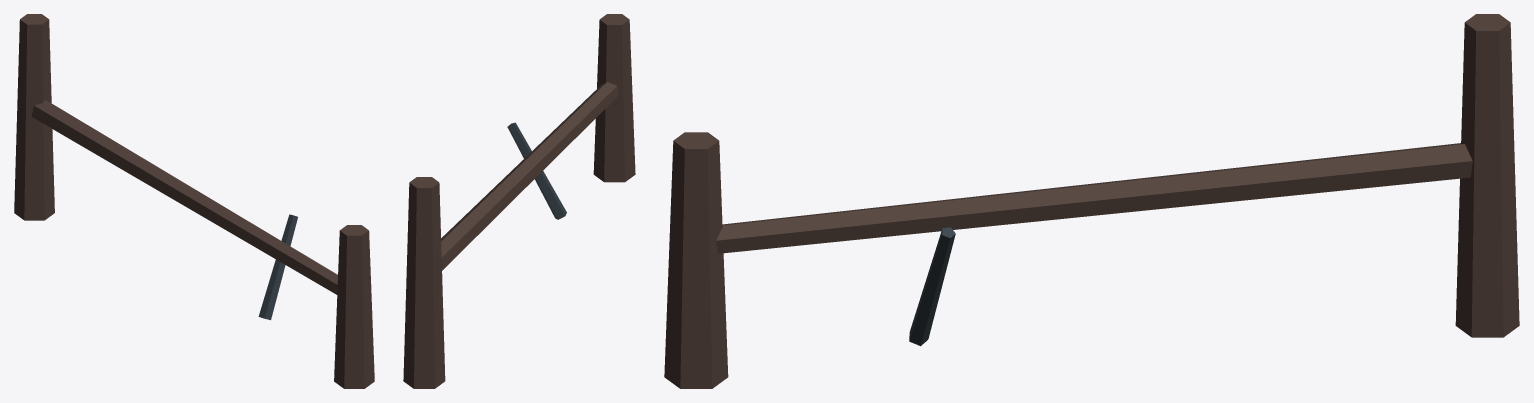
The model's file is EXTG_BranchFence_West.glb.
The picture shows the model from 3 angles, left to right: view 1: azimuth 30°, elevation 25°; view 2: azimuth 150°, elevation 25°; view 3: azimuth 270°, elevation 25°; orthographic projection. The views are drawn at different scales.
Visible parts, largest first — view 1: EXTG_BranchFence_West; view 2: EXTG_BranchFence_West; view 3: EXTG_BranchFence_West.
Part boxes in pixels (<box>): EXTG_BranchFence_West: <box>14,14,374,388</box>; EXTG_BranchFence_West: <box>403,14,635,388</box>; EXTG_BranchFence_West: <box>664,14,1519,388</box>.
Bounding box in the file's own units: 0.6302 × 1.1 × 2.81.
